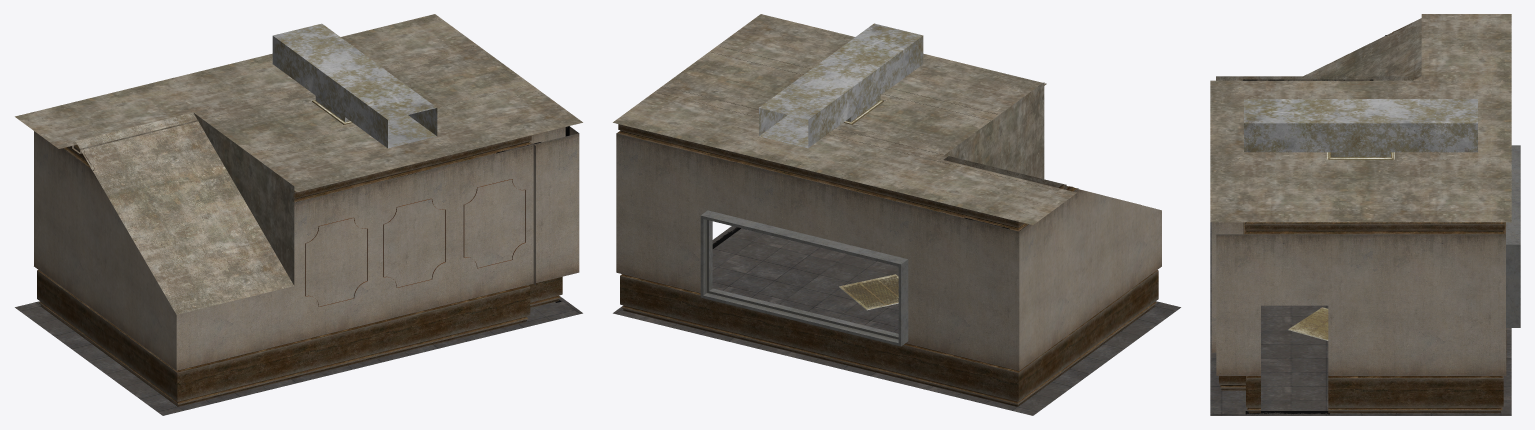
Rendered from st4_308_0_terrain_00ms.fbx.
The picture shows the model from 3 angles, left to right: view 1: azimuth 30°, elevation 25°; view 2: azimuth 150°, elevation 25°; view 3: azimuth 270°, elevation 25°; orthographic projection.
Parts seen in each view (by area): view 1: LOD_1_Group_0_Sub_6__st2_police1fRightCeiling12, LOD_1_Group_0_Sub_2__st2_police1fRightWall14, LOD_1_Group_0_Sub_4__st2_police1fRightWall16, LOD_1_Group_0_Sub_7__st2_208_0_001_st2_208_0_WestOffice_018b, LOD_1_Group_0_Sub_1__st2_police1fRightFloor12, LOD_1_Group_0_Sub_5__st2_police1fRightWall17; view 2: LOD_1_Group_0_Sub_2__st2_police1fRightWall14, LOD_1_Group_0_Sub_6__st2_police1fRightCeiling12, LOD_1_Group_0_Sub_4__st2_police1fRightWall16, LOD_1_Group_0_Sub_1__st2_police1fRightFloor12, LOD_1_Group_0_Sub_7__st2_208_0_001_st2_208_0_WestOffice_018b, LOD_1_Group_0_Sub_5__st2_police1fRightWall17; view 3: LOD_1_Group_0_Sub_6__st2_police1fRightCeiling12, LOD_1_Group_0_Sub_2__st2_police1fRightWall14, LOD_1_Group_0_Sub_7__st2_208_0_001_st2_208_0_WestOffice_018b, LOD_1_Group_0_Sub_4__st2_police1fRightWall16, LOD_1_Group_0_Sub_1__st2_police1fRightFloor12, LOD_1_Group_0_Sub_5__st2_police1fRightWall17, LOD_1_Group_0_Sub_8__st2_police1fRightDirt02.
Part boxes in pixels (bbox=[...]): LOD_1_Group_0_Sub_6__st2_police1fRightCeiling12: bbox=[15, 14, 582, 314]; LOD_1_Group_0_Sub_2__st2_police1fRightWall14: bbox=[34, 99, 579, 370]; LOD_1_Group_0_Sub_4__st2_police1fRightWall16: bbox=[34, 135, 562, 406]; LOD_1_Group_0_Sub_7__st2_208_0_001_st2_208_0_WestOffice_018b: bbox=[272, 23, 437, 148]; LOD_1_Group_0_Sub_1__st2_police1fRightFloor12: bbox=[15, 295, 582, 415]; LOD_1_Group_0_Sub_5__st2_police1fRightWall17: bbox=[305, 179, 525, 306]; LOD_1_Group_0_Sub_2__st2_police1fRightWall14: bbox=[616, 99, 1161, 370]; LOD_1_Group_0_Sub_6__st2_police1fRightCeiling12: bbox=[613, 14, 1141, 224]; LOD_1_Group_0_Sub_4__st2_police1fRightWall16: bbox=[617, 99, 1161, 406]; LOD_1_Group_0_Sub_1__st2_police1fRightFloor12: bbox=[613, 226, 1180, 415]; LOD_1_Group_0_Sub_7__st2_208_0_001_st2_208_0_WestOffice_018b: bbox=[759, 23, 923, 310]; LOD_1_Group_0_Sub_5__st2_police1fRightWall17: bbox=[700, 210, 908, 346]; LOD_1_Group_0_Sub_6__st2_police1fRightCeiling12: bbox=[1210, 14, 1511, 222]; LOD_1_Group_0_Sub_2__st2_police1fRightWall14: bbox=[1211, 222, 1505, 375]; LOD_1_Group_0_Sub_7__st2_208_0_001_st2_208_0_WestOffice_018b: bbox=[1244, 99, 1477, 340]; LOD_1_Group_0_Sub_4__st2_police1fRightWall16: bbox=[1219, 24, 1506, 413]; LOD_1_Group_0_Sub_1__st2_police1fRightFloor12: bbox=[1210, 222, 1511, 415]; LOD_1_Group_0_Sub_5__st2_police1fRightWall17: bbox=[1506, 145, 1520, 327]; LOD_1_Group_0_Sub_8__st2_police1fRightDirt02: bbox=[1242, 35, 1386, 414].
Bounding box in the file's own units: 9 × 4.6 × 5.66.
